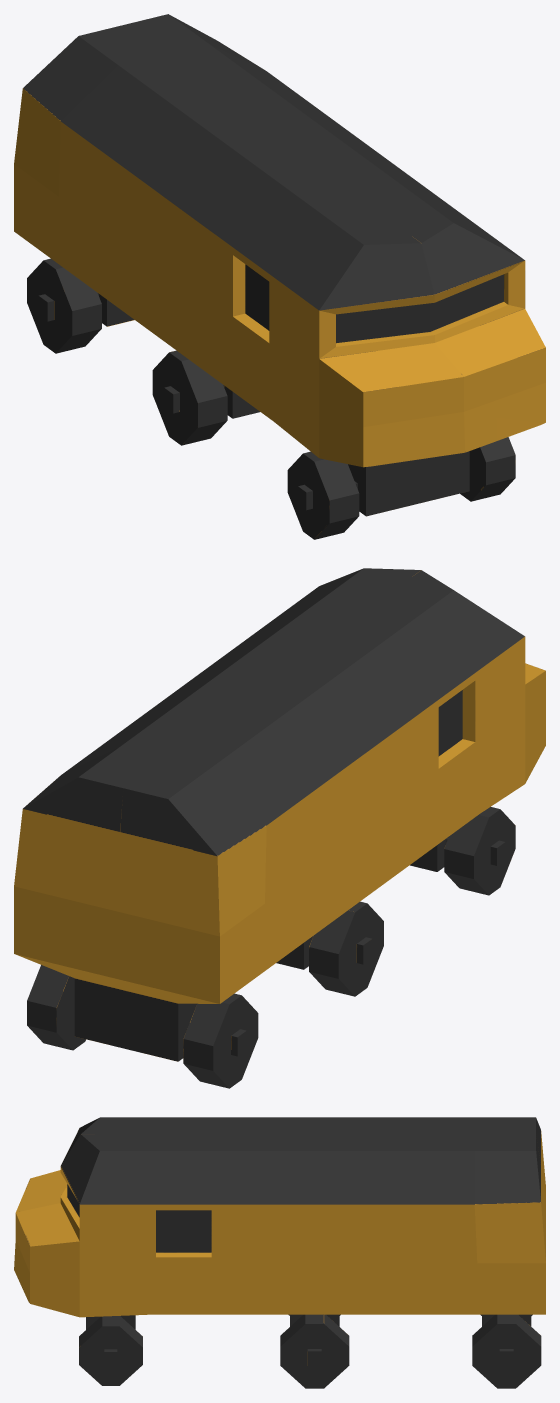
Rendered from Train_Engine.glb.
The picture shows the model from 3 angles, top to bottom: view 1: azimuth 30°, elevation 25°; view 2: azimuth 150°, elevation 25°; view 3: azimuth 270°, elevation 25°; orthographic projection. The views are drawn at different scales.
Parts seen in each view (by area): view 1: Train_engine; view 2: Train_engine; view 3: Train_engine.
Boxes of the visible parts, x1,y1,x2,y2 form: Train_engine: (14, 14, 545, 539); Train_engine: (14, 568, 545, 1088); Train_engine: (14, 1117, 545, 1388).
Size of what is drawn, in the model's own units: 2.2 by 2.94 by 6.45.
1 material, 1 textured.
